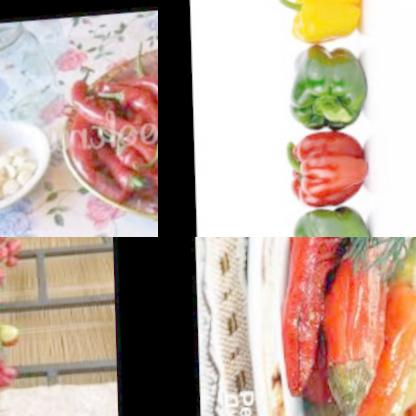bell pepper: (277, 130, 368, 216), (284, 44, 365, 140), (273, 0, 363, 52), (281, 205, 371, 237)
garlic: (0, 135, 39, 205)
hot pepper: (261, 237, 378, 403), (308, 237, 409, 416), (58, 62, 158, 225), (334, 237, 416, 416), (377, 254, 416, 416), (0, 237, 44, 309), (0, 303, 25, 404)
